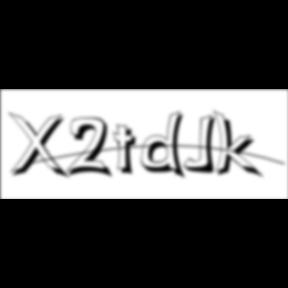2: (66, 117, 116, 181)
J: (184, 114, 223, 176)
X: (8, 112, 72, 182)
d: (141, 110, 191, 182)
k: (213, 108, 266, 181)
t: (112, 124, 144, 179)
